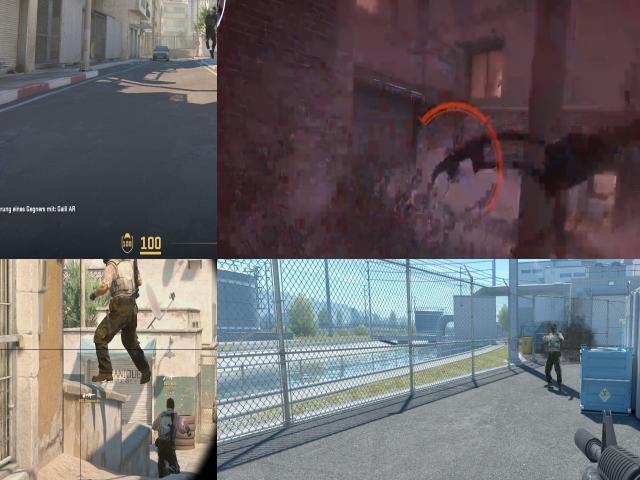CT: (205, 6, 217, 52)
CT-Head: (211, 7, 217, 12)
T: (98, 259, 139, 374), (156, 396, 181, 472), (546, 321, 562, 387)
T-Head: (163, 395, 178, 416), (99, 259, 122, 268), (550, 322, 559, 336)
